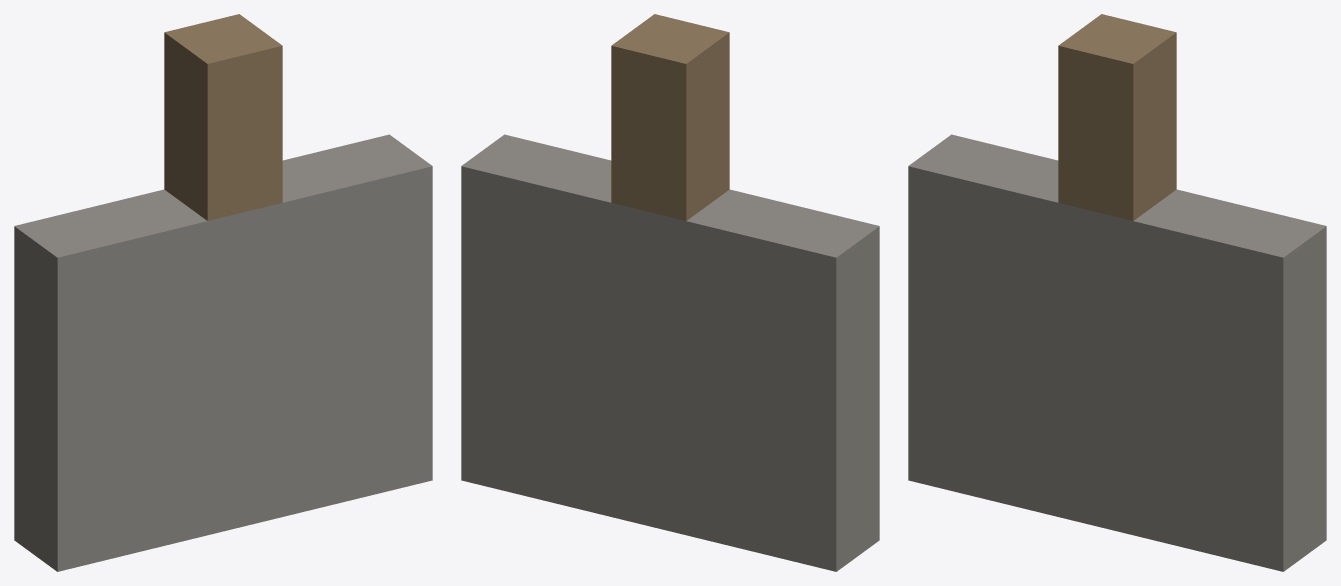
Rendered from sarten_01.glb.
3 renders of one model, left to right at view 1: azimuth 30°, elevation 25°; view 2: azimuth 150°, elevation 25°; view 3: azimuth 330°, elevation 25°, orthographic.
Parts seen in each view (by area): view 1: sarten; view 2: sarten; view 3: sarten.
Boxes of the visible parts, <box> form: sarten: <box>14,14,432,571</box>; sarten: <box>461,14,879,571</box>; sarten: <box>908,14,1326,571</box>.
Bounding box in the file's own units: 0.7692 × 0.9231 × 0.1538.
